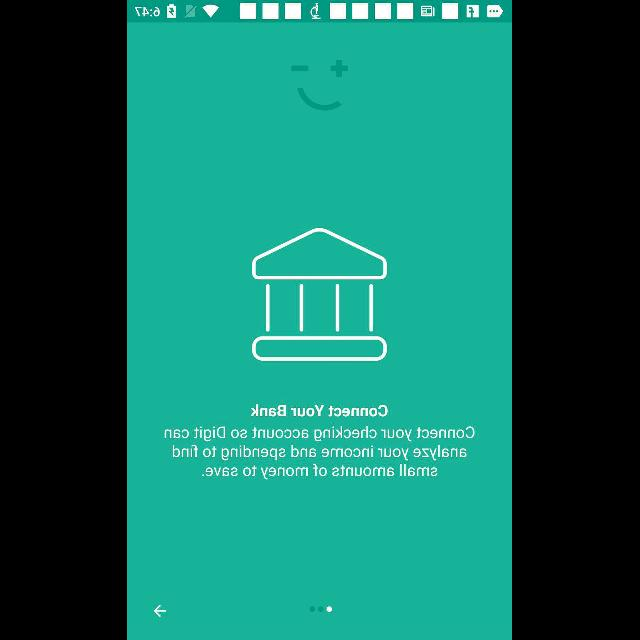icon: (154, 604, 168, 618)
image: (252, 228, 388, 362), (291, 59, 349, 112)
pageindicator: (311, 606, 334, 612)
text: (164, 426, 476, 480), (251, 404, 389, 418)
uppertaskbar: (128, 1, 512, 23)
